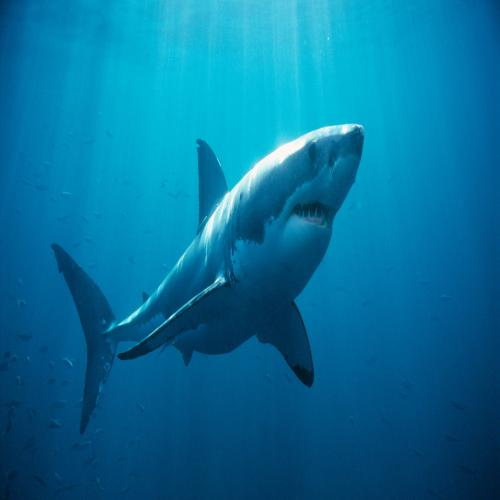shark-endangered: (80, 86, 366, 397)
